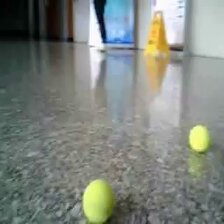tennis: (81, 179, 119, 224), (189, 125, 212, 153)
